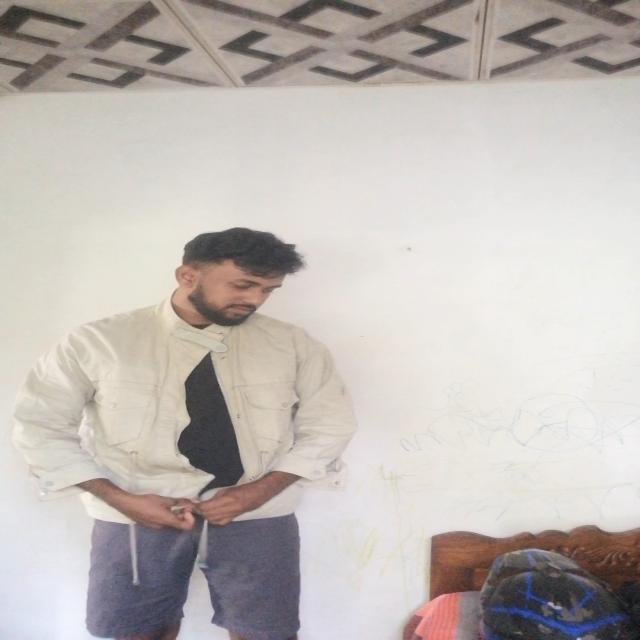Jacket_Wearer: (18, 289, 361, 553)
Person: (12, 223, 354, 640)
